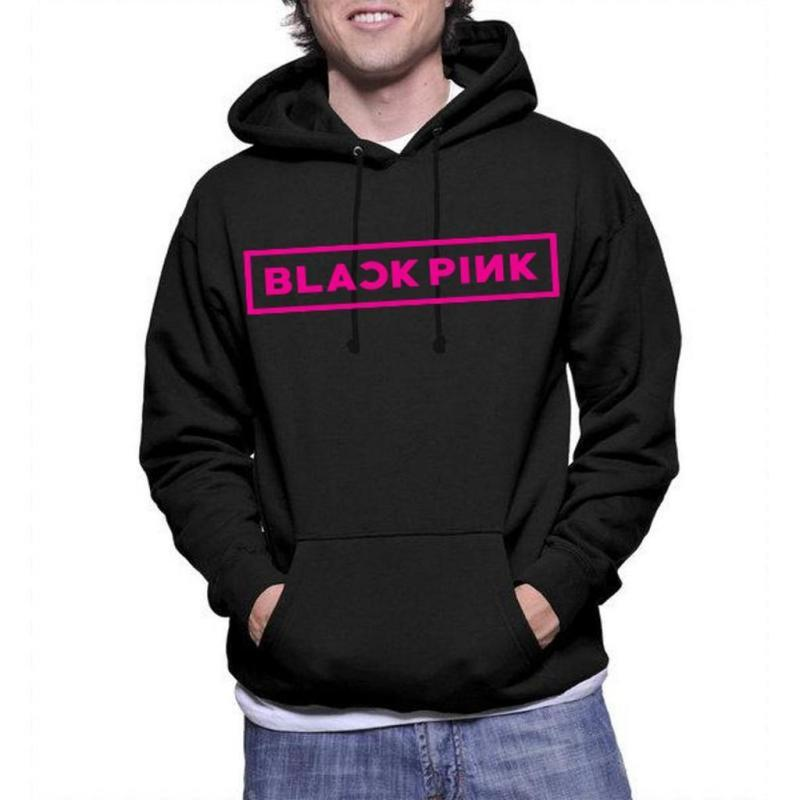sweater: (130, 15, 690, 722)
trousers: (234, 687, 636, 800)
